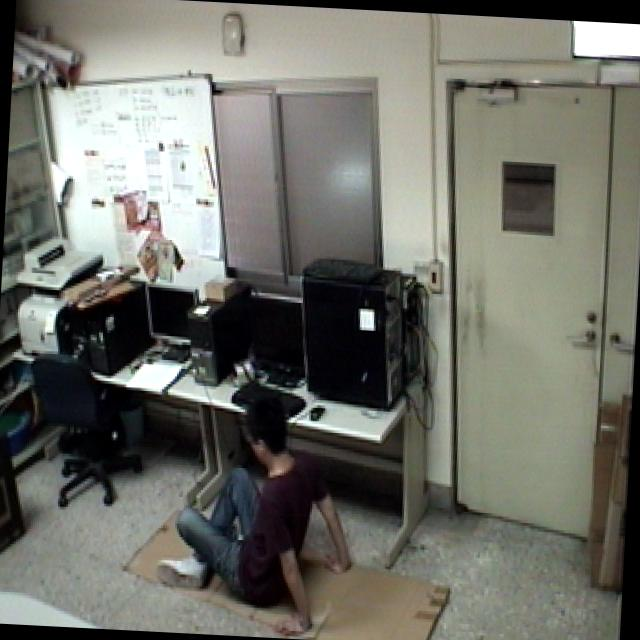sit: (146, 383, 371, 640)
